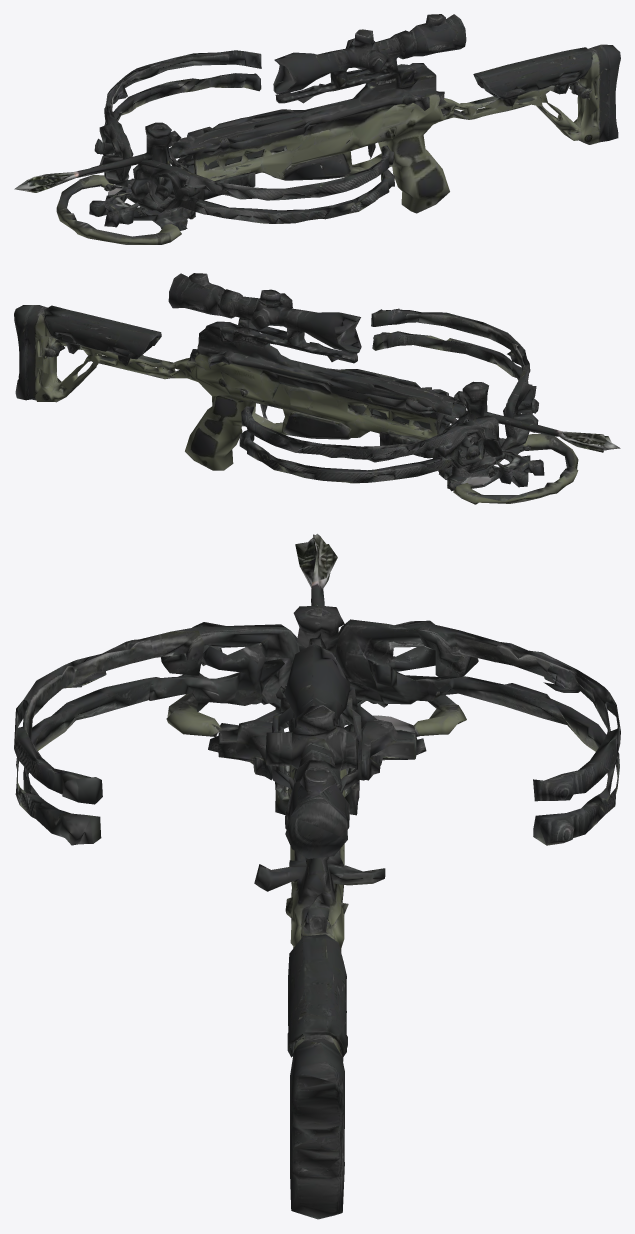
The model's file is gun_crossbow.glb.
3 renders of one model, top to bottom at view 1: azimuth 30°, elevation 25°; view 2: azimuth 150°, elevation 25°; view 3: azimuth 270°, elevation 25°, orthographic. The views are drawn at different scales.
Bounding box in the file's own units: 1.9 × 0.5646 × 0.9293.
Materials: 1 (1 with a texture image).
